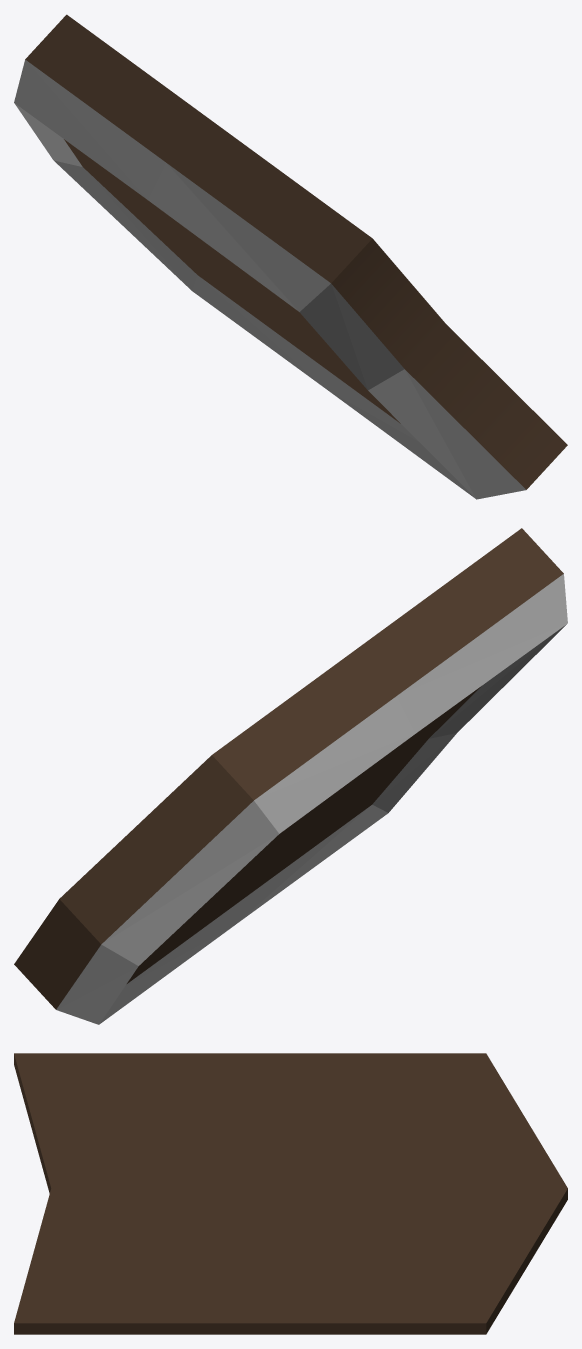
The model's file is W_Right_Shield.FBX.
3 views of the same model, one above another, from view 1: azimuth 30°, elevation 25°; view 2: azimuth 150°, elevation 25°; view 3: azimuth 270°, elevation 25° (orthographic). The views are drawn at different scales.
Parts seen in each view (by area): view 1: Box001; view 2: Box001; view 3: Box001.
Boxes of the visible parts, x1,y1,x2,y2 form: Box001: (14, 14, 567, 499); Box001: (14, 528, 567, 1024); Box001: (14, 1053, 567, 1334).
Size of the model in its own units: 0.3637 by 0.4098 by 0.8855.
